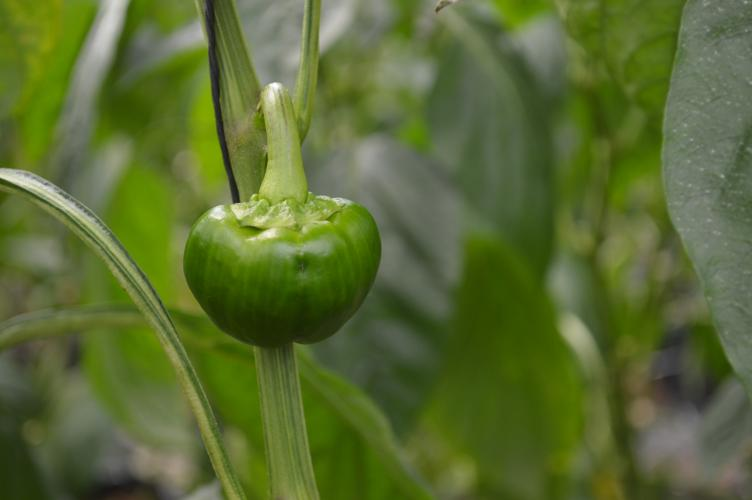BellPepper: (183, 195, 377, 348)
